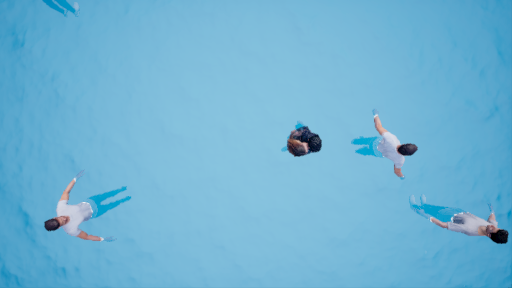person: (37, 169, 137, 245), (412, 190, 510, 248), (348, 105, 417, 177), (279, 119, 326, 161)
